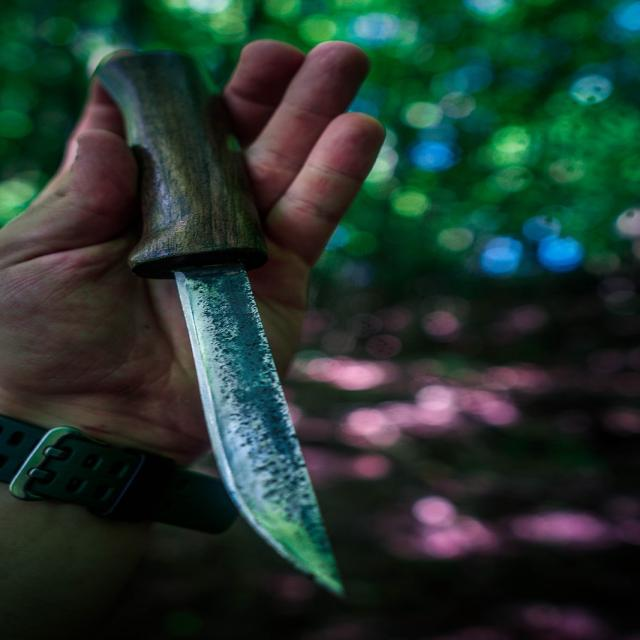knife: (98, 44, 348, 598)
